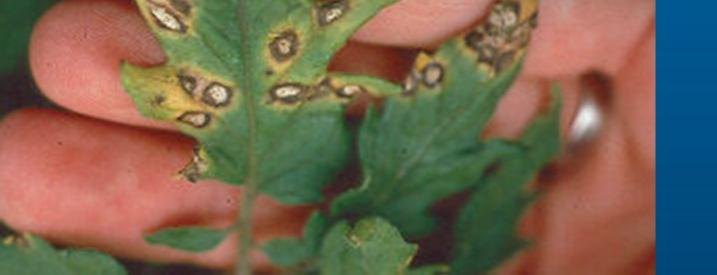Tomato Septoria leaf spot: (83, 0, 399, 195), (349, 0, 551, 246), (0, 202, 245, 275)
